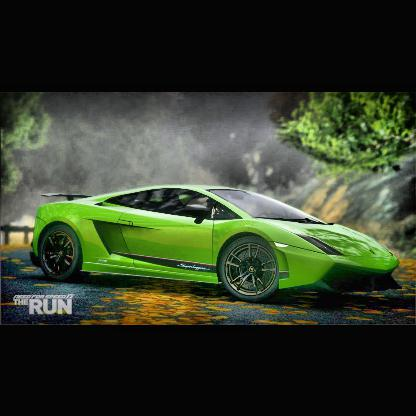Lamborghini Gallardo LP 570-4 Superleggera 2012: (29, 183, 402, 305)
